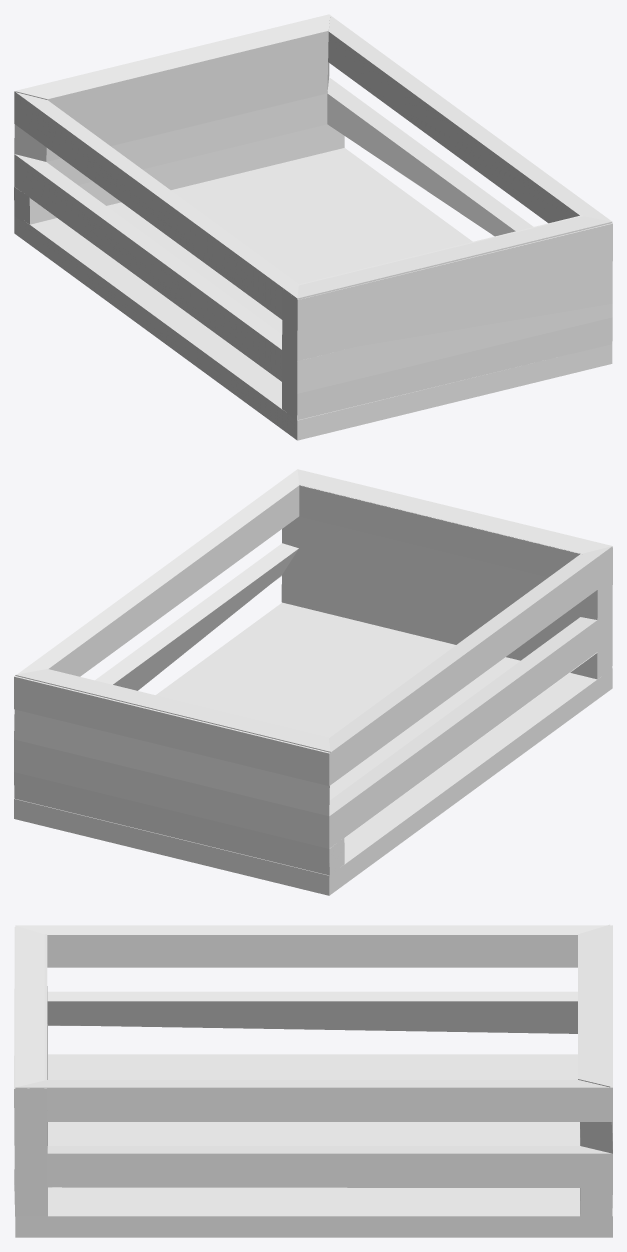
Rendered from FruitBasket.fbx.
The picture shows the model from 3 angles, top to bottom: view 1: azimuth 30°, elevation 25°; view 2: azimuth 150°, elevation 25°; view 3: azimuth 270°, elevation 25°; orthographic projection. The views are drawn at different scales.
Visible parts, largest first — view 1: Basket; view 2: Basket; view 3: Basket.
Part boxes in pixels (x1=…): Basket: x1=14, y1=14, x2=612, y2=440; Basket: x1=14, y1=469, x2=612, y2=895; Basket: x1=14, y1=924, x2=612, y2=1237.
Size of the model in its own units: 179 by 77.56 by 279.
